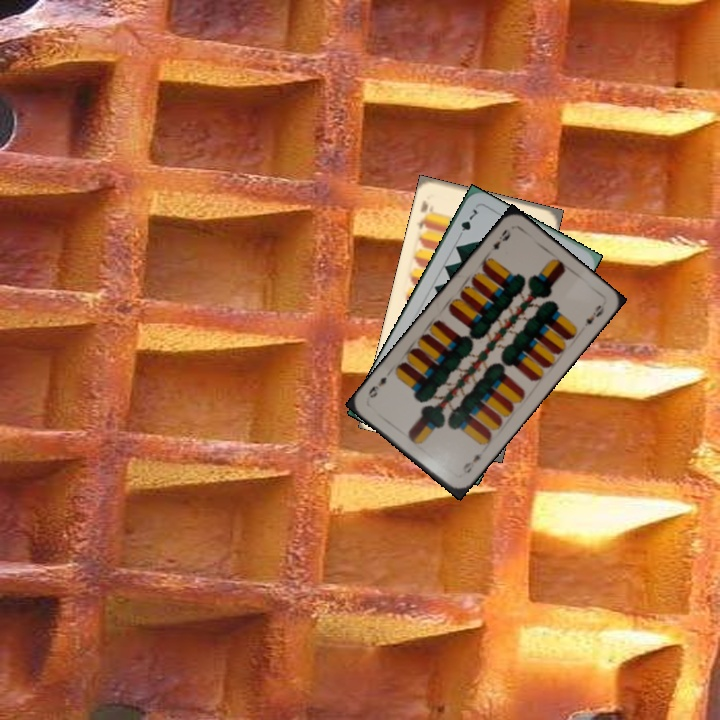E10: (412, 196, 436, 232)
E9: (486, 225, 513, 253), (458, 449, 485, 476)
G7: (454, 205, 481, 241)
